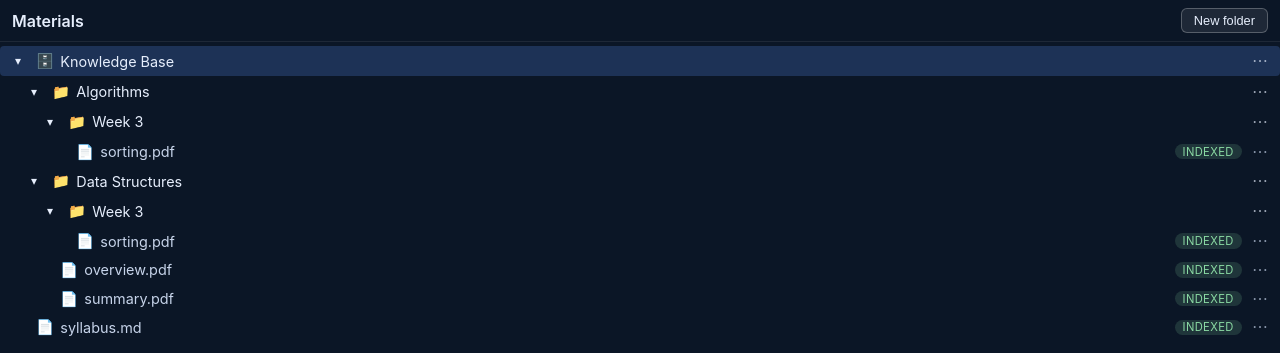
Test: MaterialsApp context menu › closes on an outside press on another control and leaves focus there
The image size is (1280, 353).
Click the button with test id "folder-actions-ds". click: (1260, 181)
box: [1248, 169, 1272, 193]
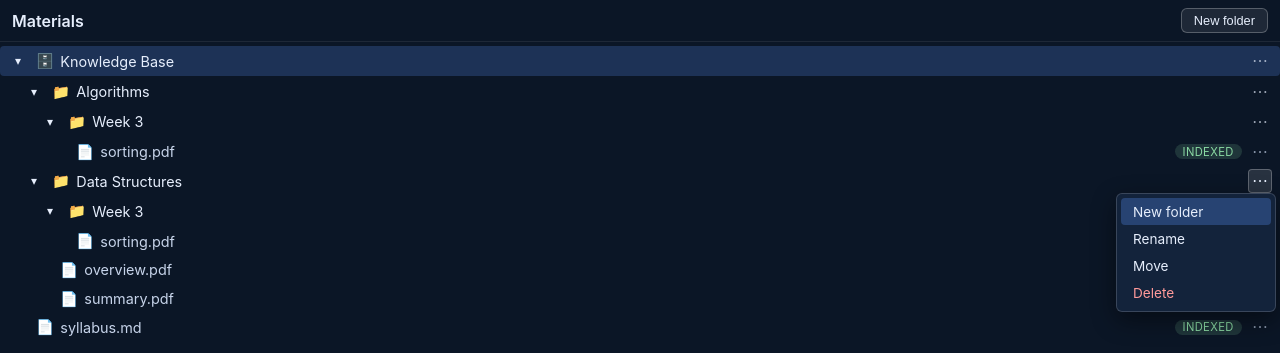
Click the button with test id "folder-label-alg". click: (113, 92)
box: [48, 81, 1244, 102]
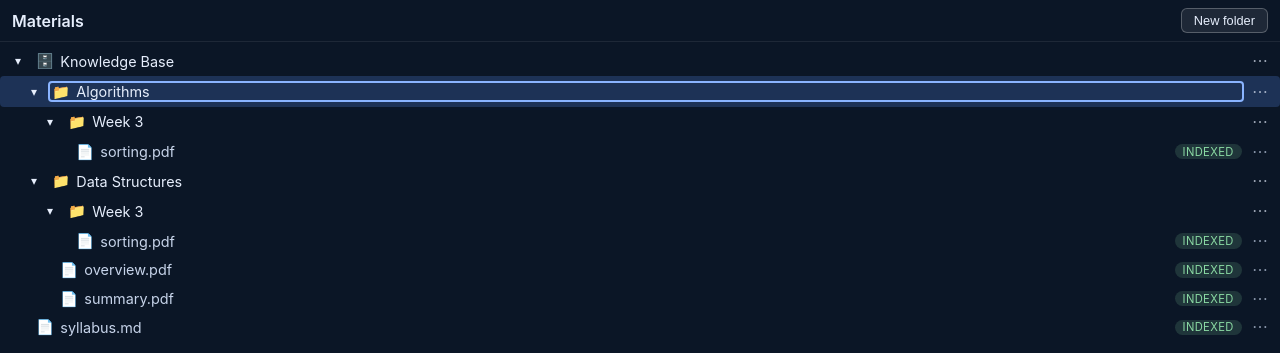
Expected: the menu is gone
